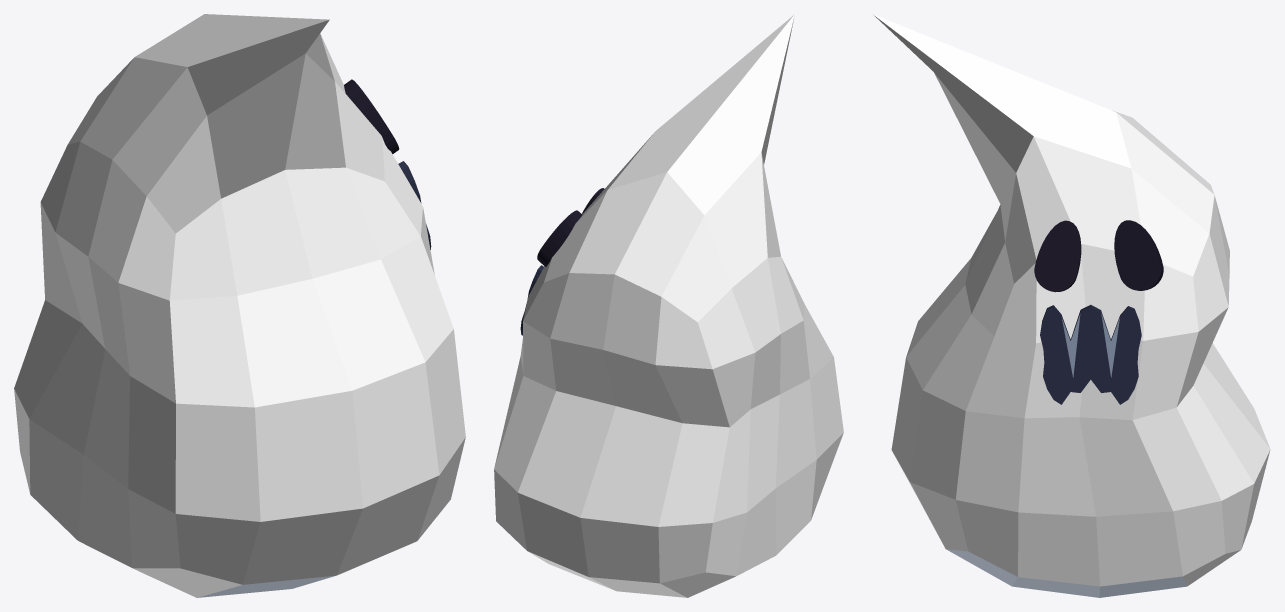
The model's file is BasicGhosty.fbx.
The picture shows the model from 3 angles, left to right: view 1: azimuth 30°, elevation 25°; view 2: azimuth 150°, elevation 25°; view 3: azimuth 270°, elevation 25°; orthographic projection. The views are drawn at different scales.
Parts seen in each view (by area): view 1: Cube; view 2: Cube; view 3: Cube.
Part boxes in pixels (x1,y1,x2,y2): Cube: [14, 14, 465, 597]; Cube: [494, 14, 843, 597]; Cube: [873, 14, 1270, 597].
Bounding box in the file's own units: 136 × 258 × 173.
